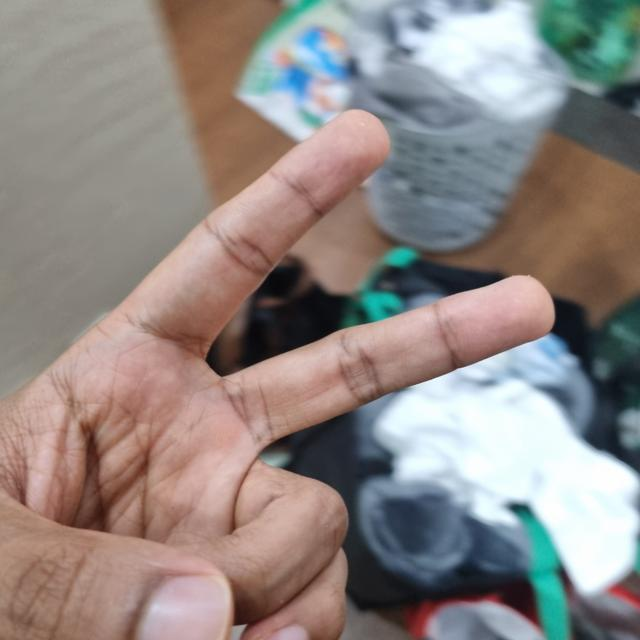Scissors: (0, 107, 541, 639)
